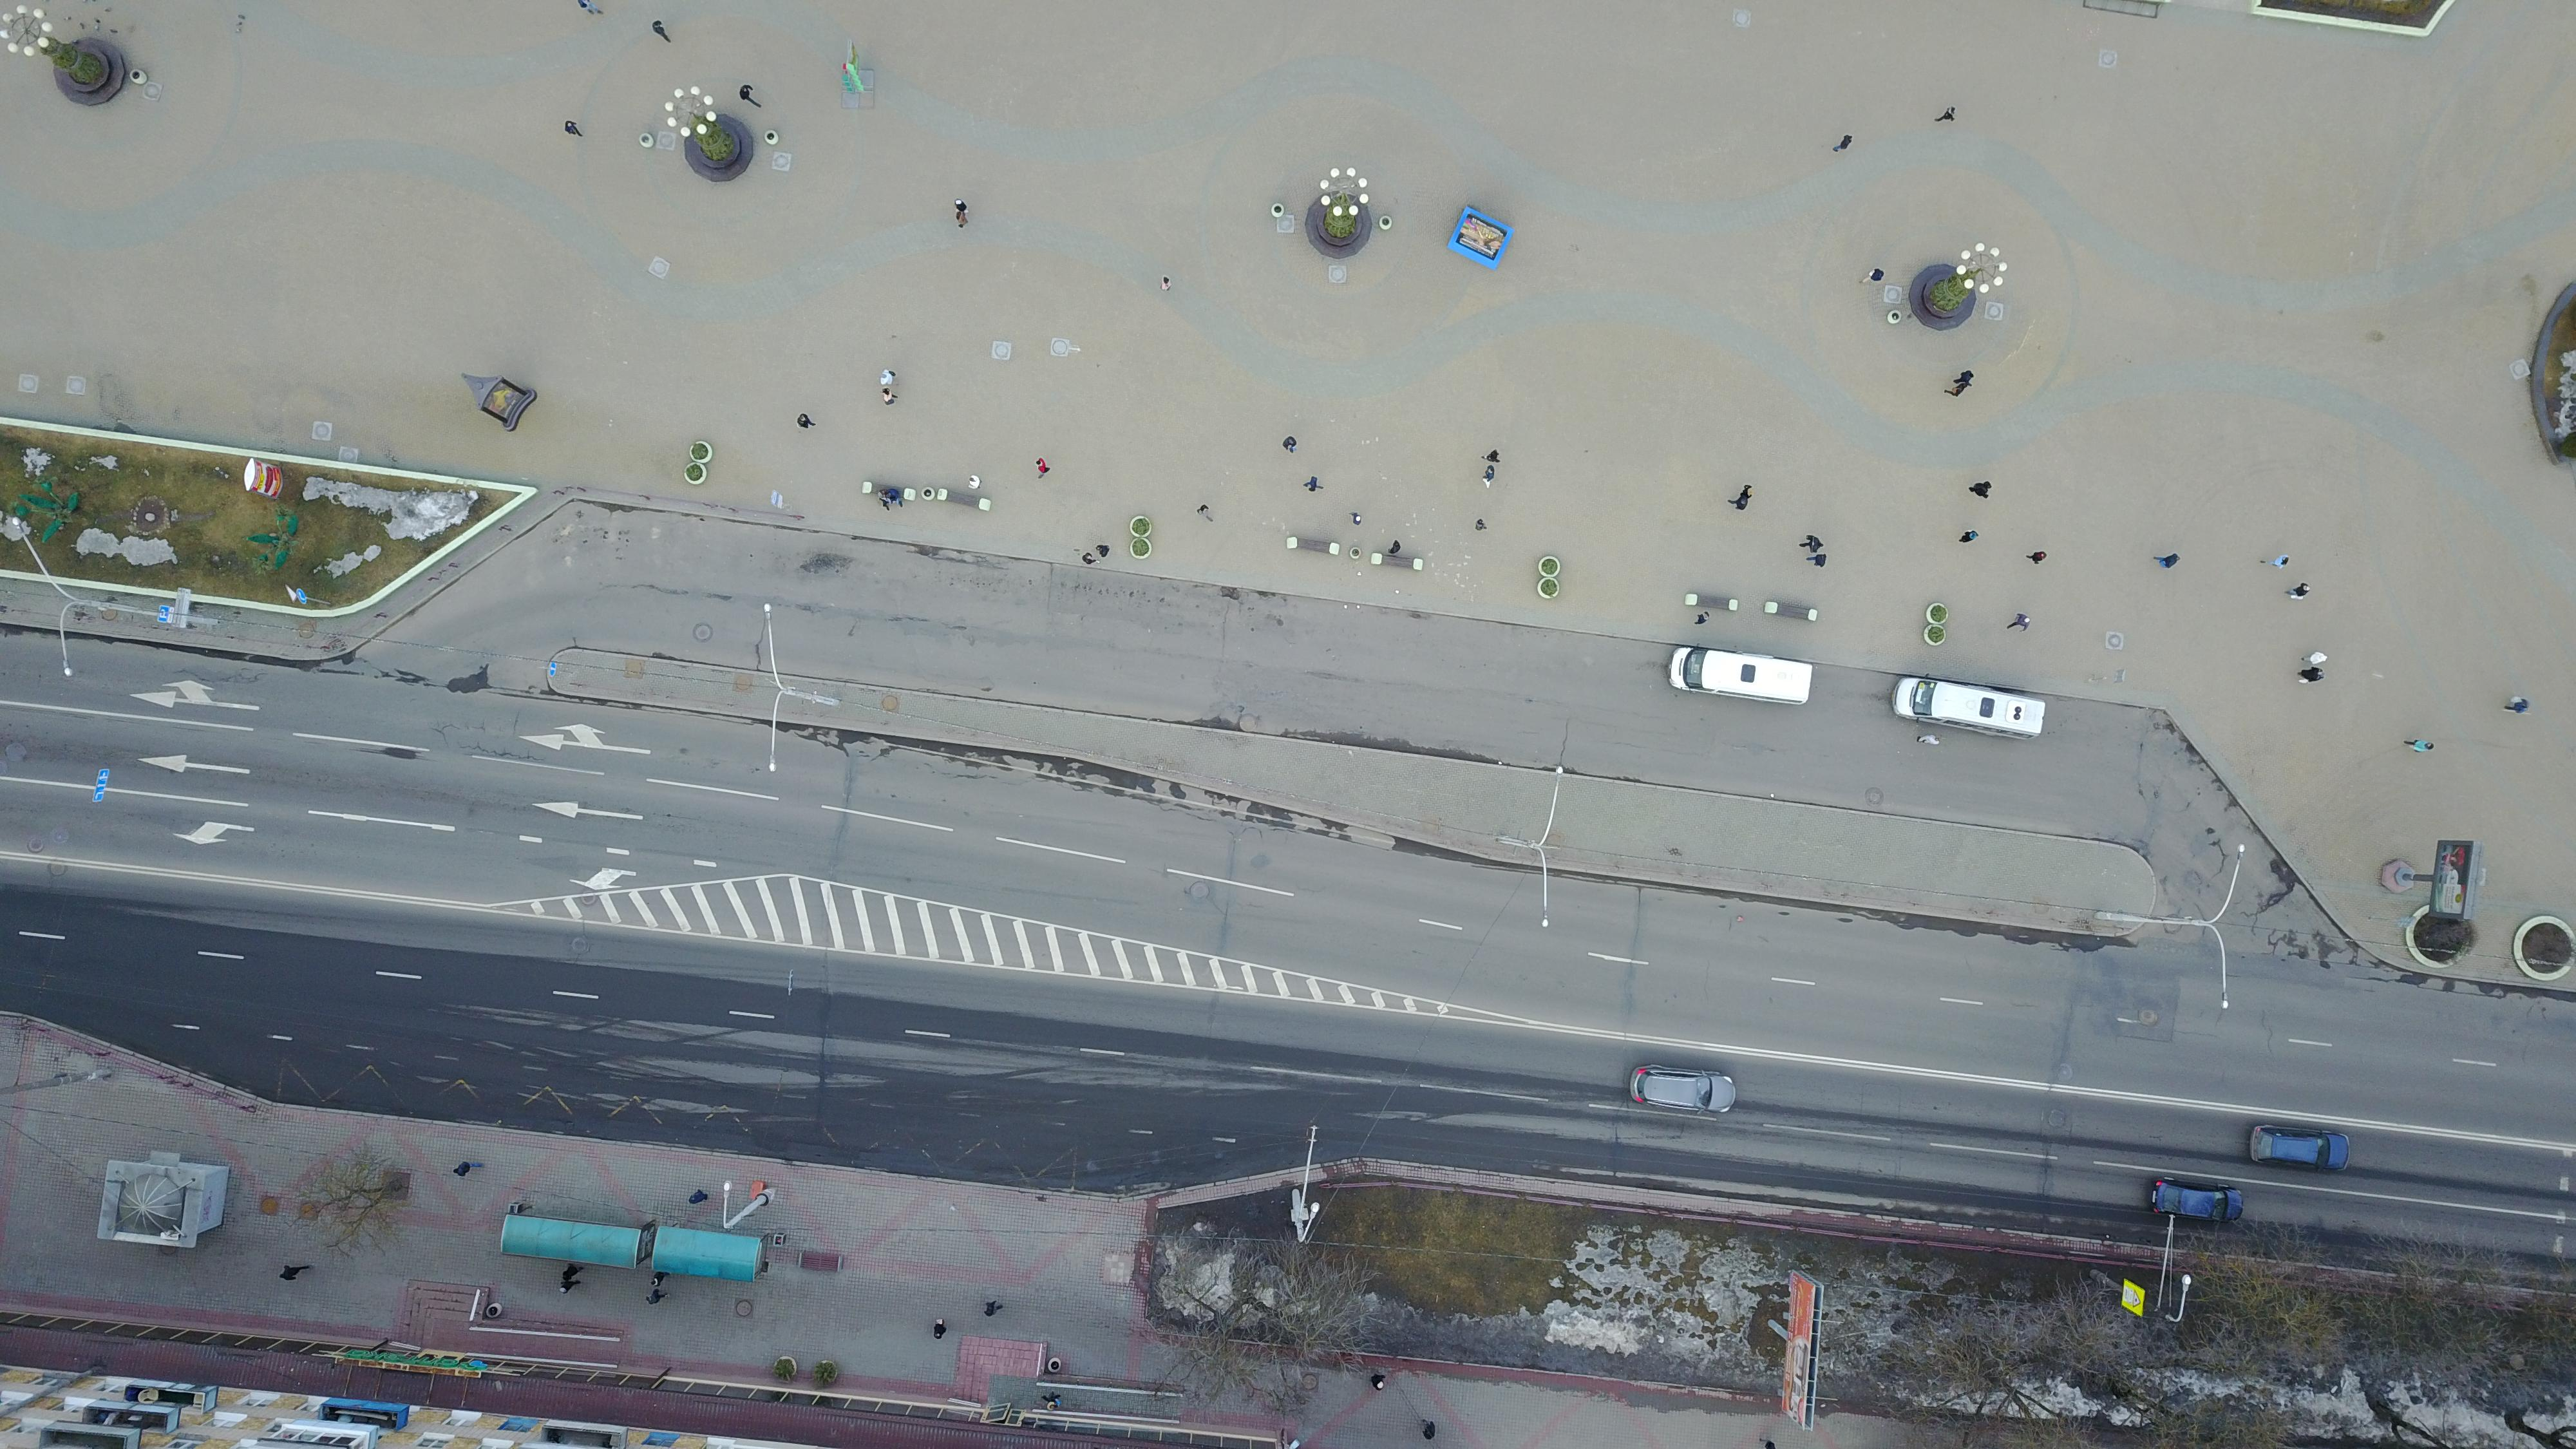car: (1626, 1062, 1743, 1120), (2252, 1120, 2358, 1178), (2148, 1168, 2247, 1226)
